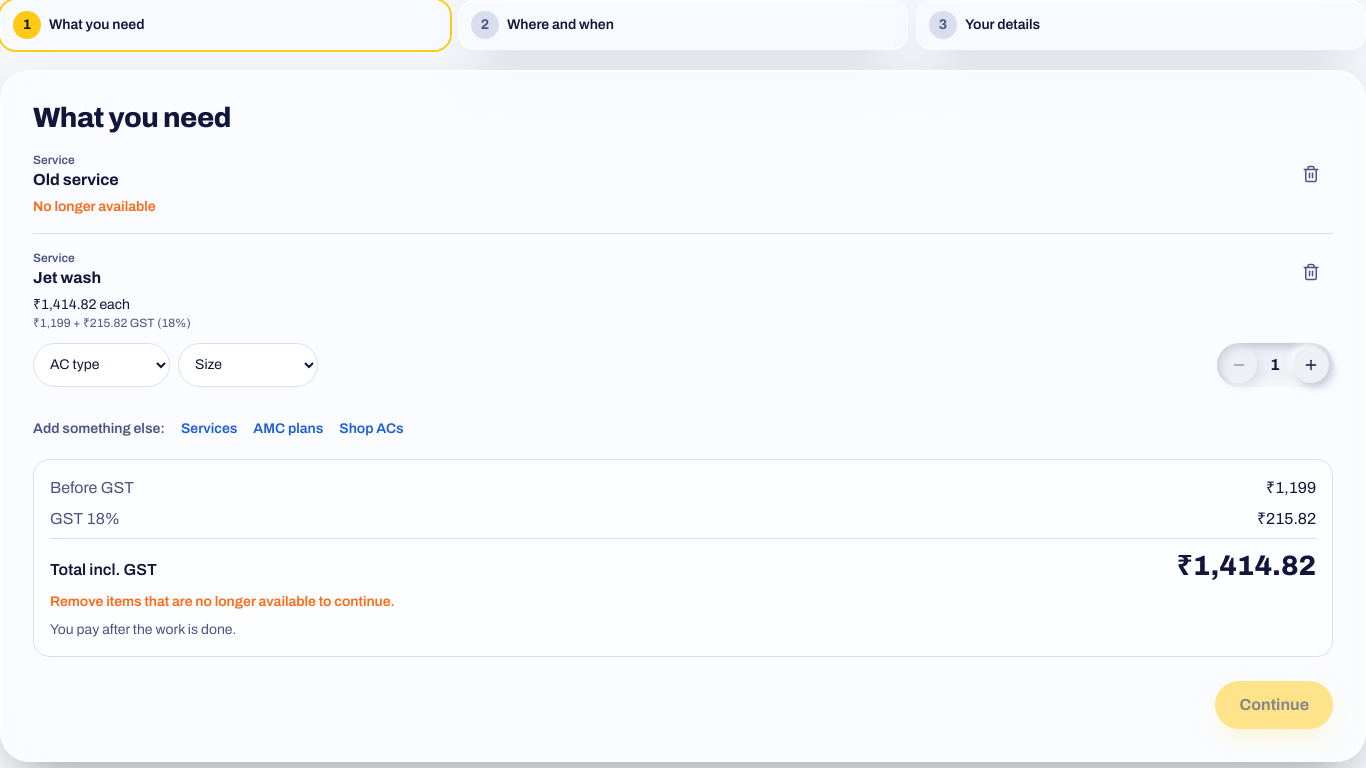
BookFlow › blocks things that are no longer offered until they are removed
Expected: the text "No longer available" is shown, [33, 197, 156, 217]
Expected: the button "Continue" is disabled, [1216, 681, 1333, 729]
Click the button named "Remove Old service" at (1311, 174), box [1289, 152, 1333, 196]
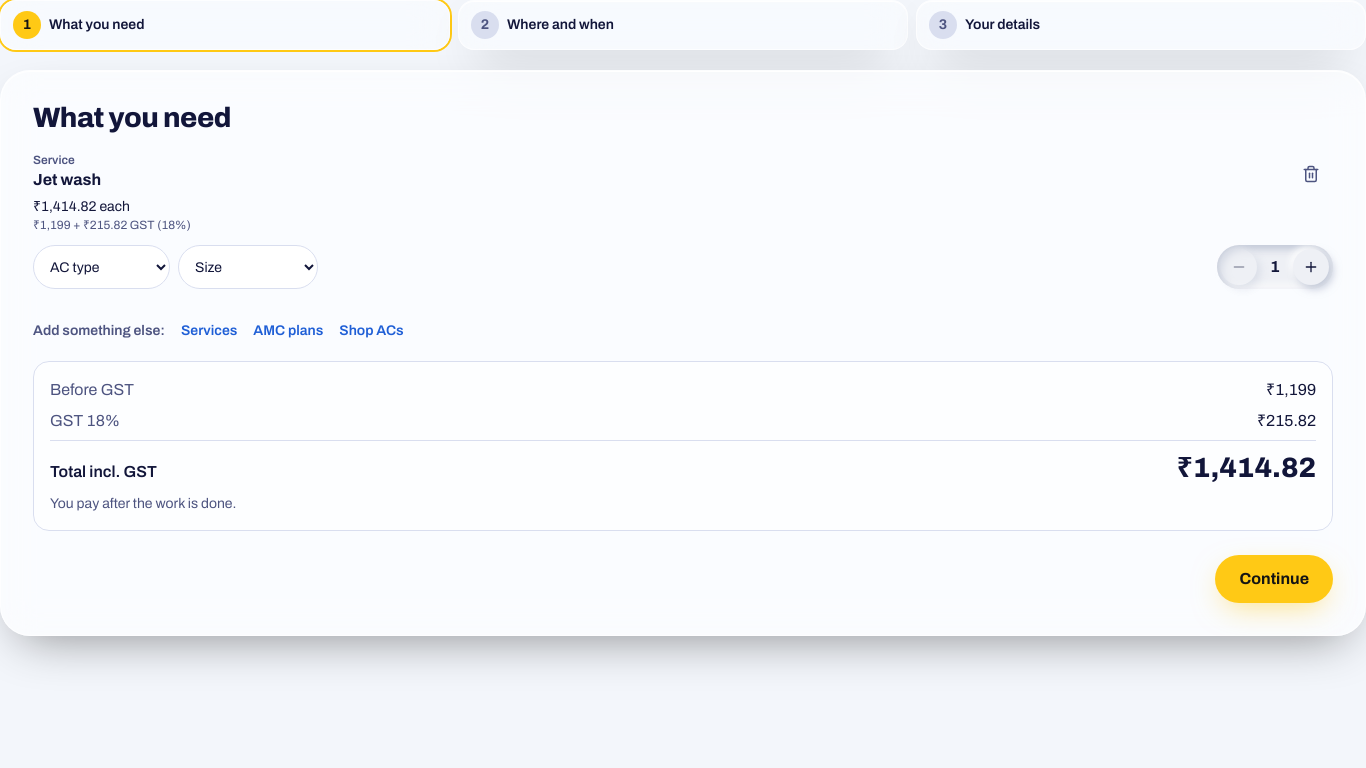
Expected: the button "Continue" is enabled, [1216, 555, 1333, 603]
